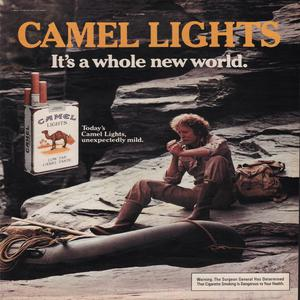cigarette: (172, 140, 183, 149)
